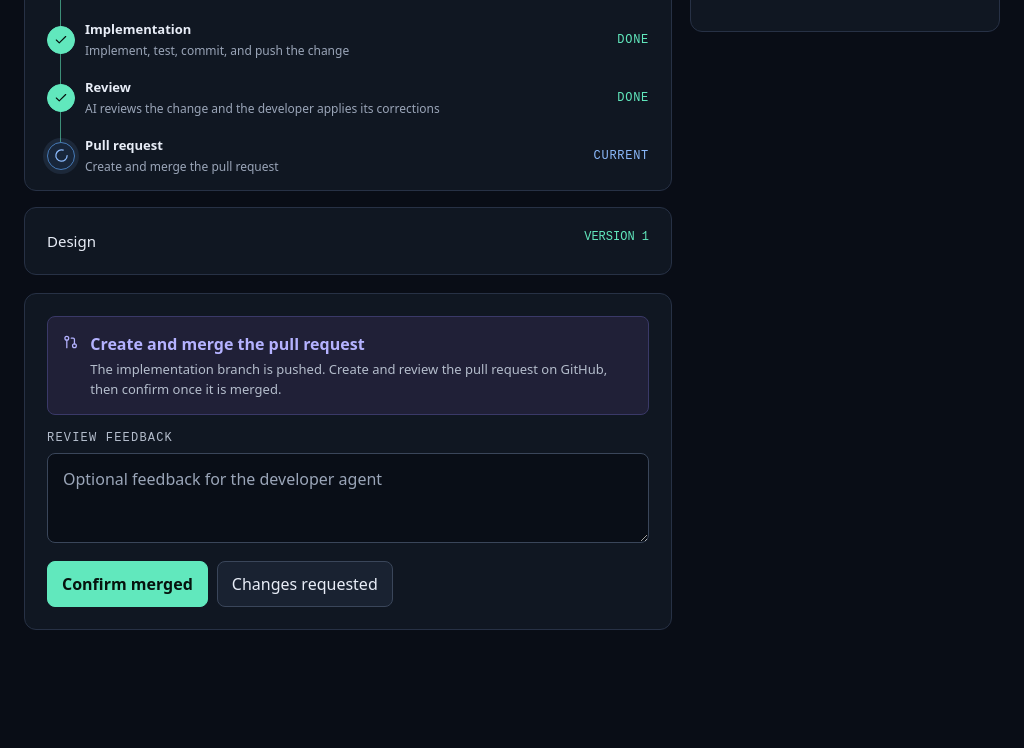
WorkflowDetailPage actions › shows the API error when "Confirm merged" fails and re-enables actions
The image size is (1024, 748).
(page scrolled)
Click the button "Confirm merged". click: (127, 584)
box: x1=47 y1=561 x2=208 y2=607
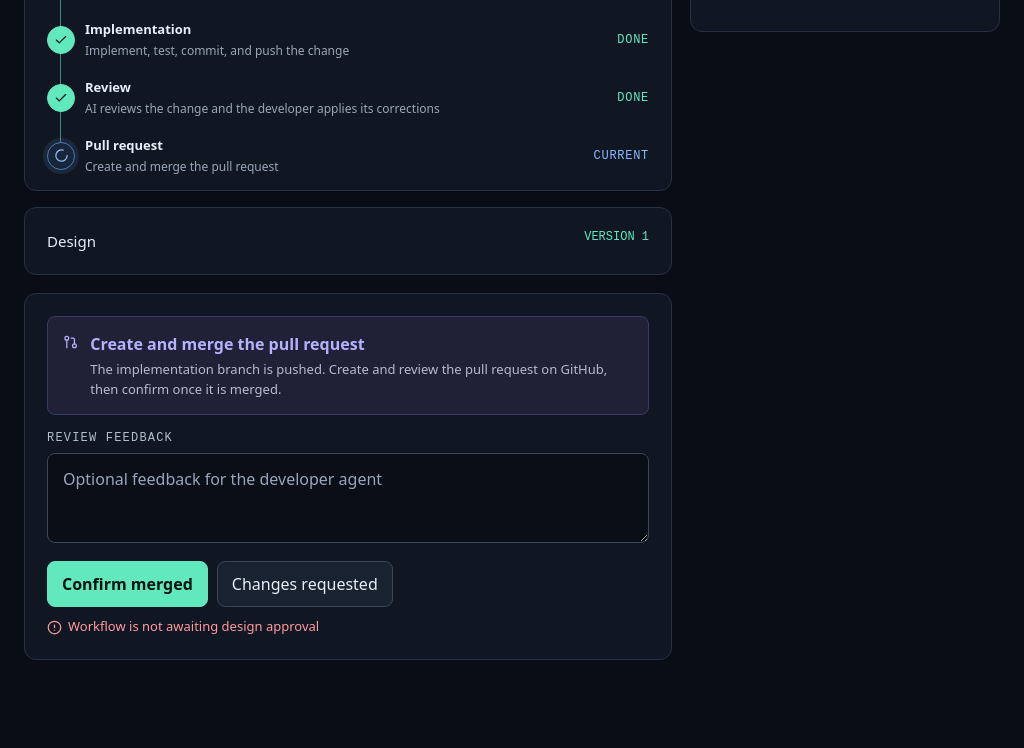
Expected: the message reads "Workflow is not awaiting design approval", x1=68 y1=617 x2=319 y2=635
